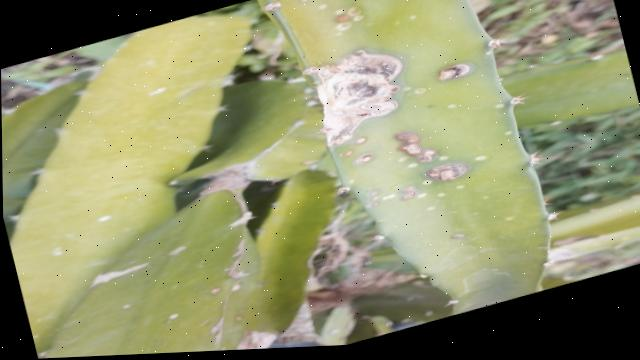stemcanker: (336, 134, 377, 168), (330, 5, 370, 34), (412, 190, 454, 215), (470, 152, 496, 166), (442, 98, 464, 114), (453, 183, 468, 193)
